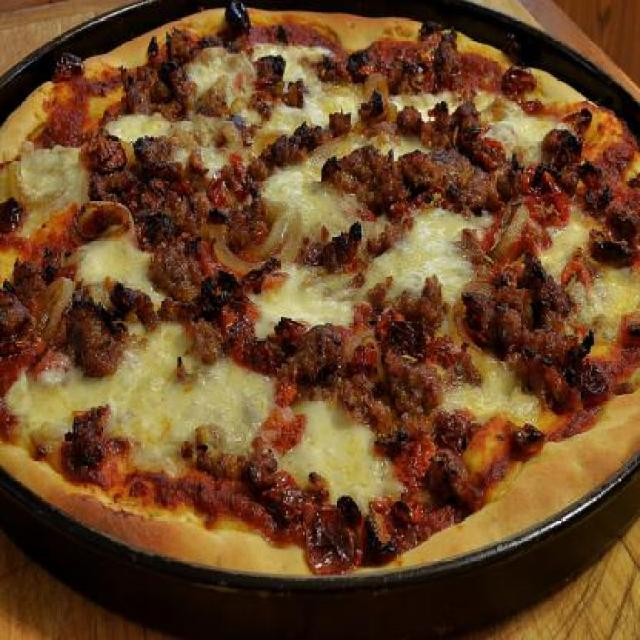Pizza: (0, 6, 640, 582)
